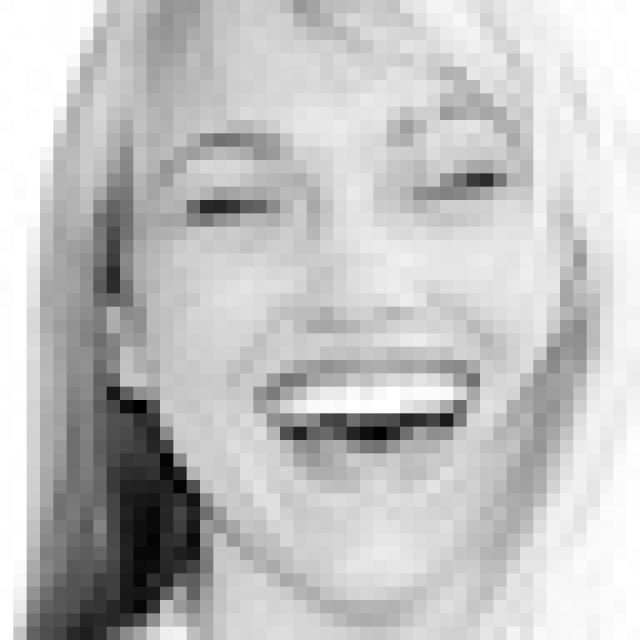happy: (151, 98, 532, 498)
